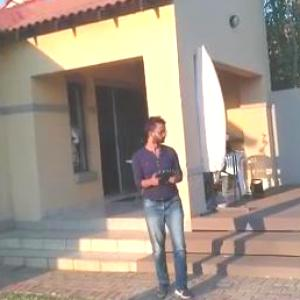follow: (132, 114, 196, 299)
